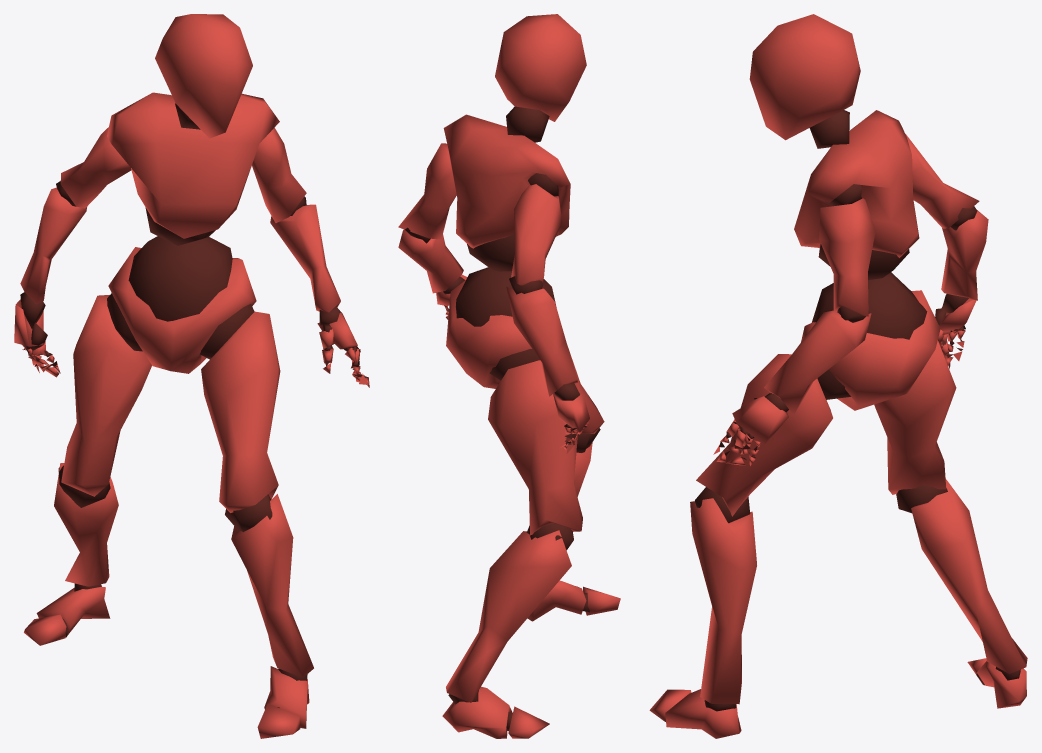
3 views of the same model, side by side, from view 1: azimuth 30°, elevation 25°; view 2: azimuth 150°, elevation 25°; view 3: azimuth 270°, elevation 25° (orthographic). The views are drawn at different scales.
Parts seen in each view (by area): view 1: Beta_Surface; view 2: Beta_Surface; view 3: Beta_Surface.
Part boxes in pixels (bbox=[...]): Beta_Surface: bbox=[14, 14, 369, 738]; Beta_Surface: bbox=[398, 14, 620, 738]; Beta_Surface: bbox=[649, 14, 1027, 738].
Size of the model in its own units: 5.56 by 14.58 by 7.2.
